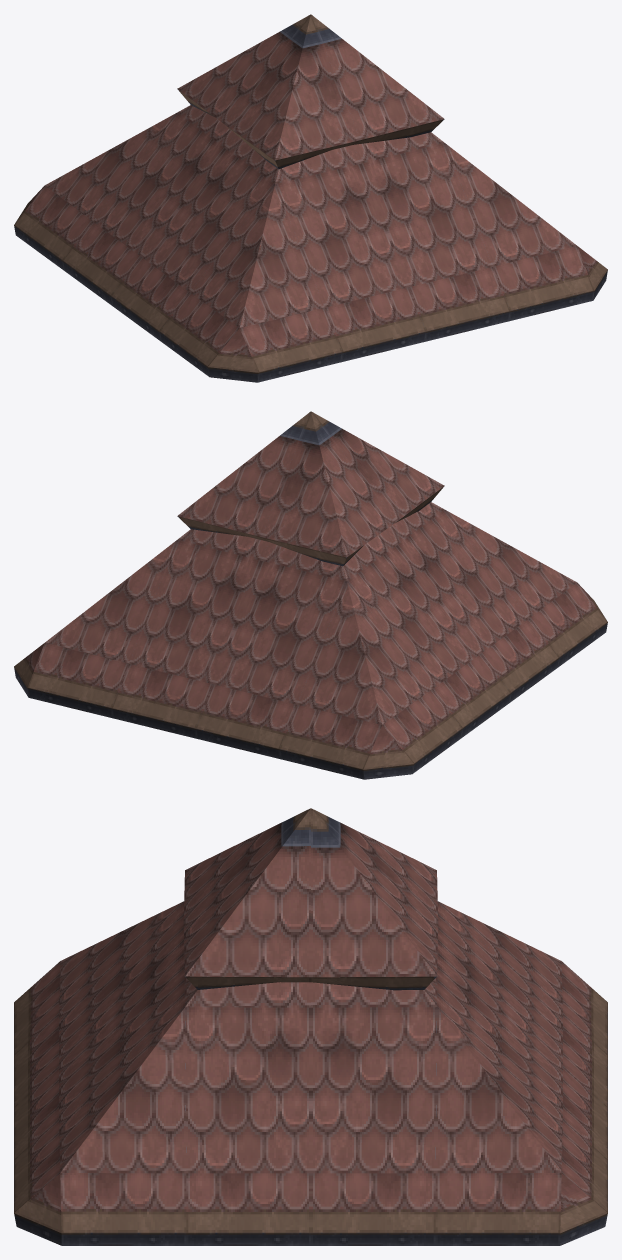
The model's file is roof_red_square_fancy.glb.
3 views of the same model, one above another, from view 1: azimuth 30°, elevation 25°; view 2: azimuth 150°, elevation 25°; view 3: azimuth 270°, elevation 25° (orthographic). The views are drawn at different scales.
Parts seen in each view (by area): view 1: roof_red_square_fancy; view 2: roof_red_square_fancy; view 3: roof_red_square_fancy.
Part boxes in pixels (box(x1,y1,x2,y2)): roof_red_square_fancy: box(14, 14, 607, 382); roof_red_square_fancy: box(14, 411, 607, 779); roof_red_square_fancy: box(14, 808, 607, 1245).
Size of the model in its own units: 4.76 by 2.77 by 4.76.
Materials: 1 (1 with a texture image).
